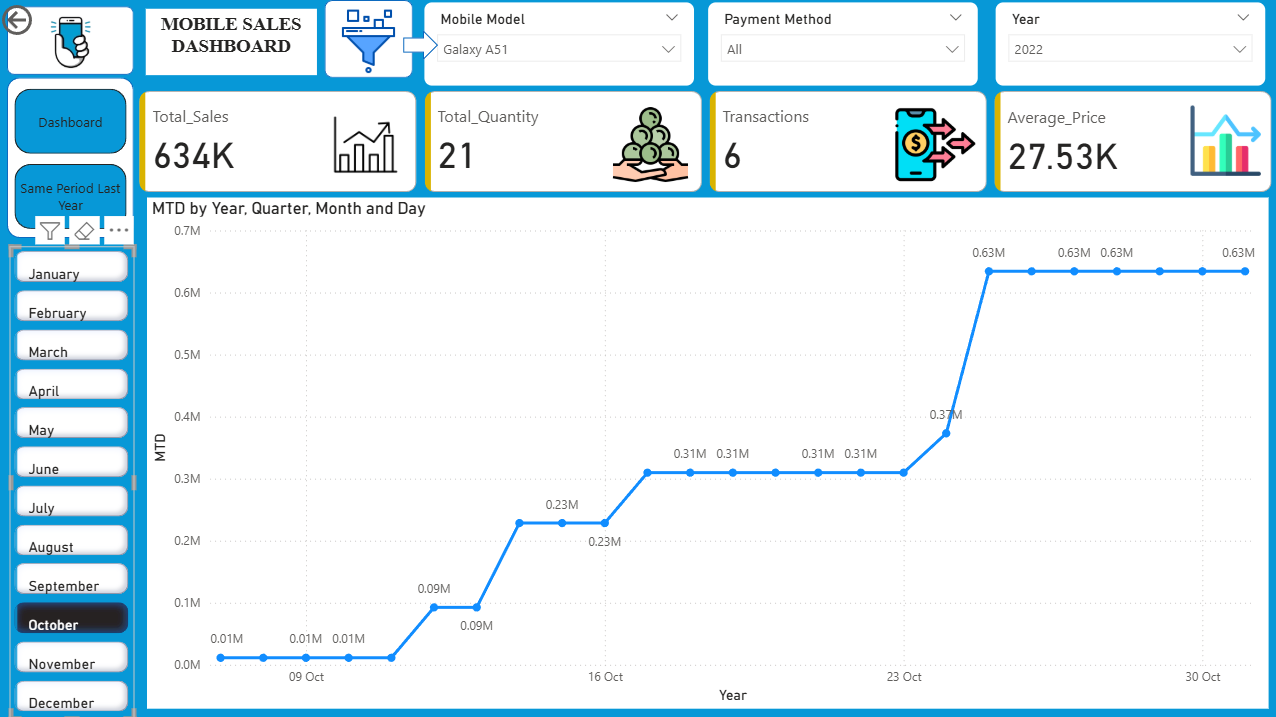

The dashboard page shown, as its layout file describes it:
{"tool":"powerbi","page":{"name":"MTD Report","canvas":[1280,720],"ordinal":1},"visuals":[{"type":"shape","box":[10.5,5.8,126.7,68.6],"z":0},{"type":"image","box":[31.4,3.5,84.9,74.4],"z":1000},{"type":"shape","box":[10.5,77.9,126.7,160.5],"z":2000},{"type":"cardVisual","fields":{"Data":["Mobiles_Sales_Data.Total_Sales","Mobiles_Sales_Data.Total_Quantity","Mobiles_Sales_Data.Transactions","Mobiles_Sales_Data.Average_Price"]},"box":[137.2,86,1143,111.6],"z":3000},{"type":"slicer","fields":{"Values":["Mobiles_Sales_Data.Mobile Model"]},"box":[425.6,0,274.4,88.4],"z":4000},{"type":"slicer","fields":{"Values":["Mobiles_Sales_Data.Payment Method"]},"box":[709.3,0,274.4,88.4],"z":5000},{"type":"slicer","fields":{"Values":["Custom_Calender.Date.Variation.Date Hierarchy.Year"]},"box":[996.5,0,274.4,88.4],"z":6000},{"type":"shape","box":[148.8,8.1,170.9,66.3],"z":7000},{"type":"shape","box":[327.9,0,88.4,77.9],"z":8000},{"type":"image","box":[327.9,3.5,88.4,75.6],"z":9000},{"type":"shape","box":[405.8,30.2,34.9,30.2],"z":10000},{"type":"textbox","box":[148.8,8.1,170.9,66.3],"z":11000},{"type":"lineChart","fields":{"Y":["Mobiles_Sales_Data.MTD"],"Category":["Custom_Calender.Date.Variation.Date Hierarchy.Year","Custom_Calender.Date.Variation.Date Hierarchy.Quarter","Custom_Calender.Date.Variation.Date Hierarchy.Month","Custom_Calender.Date.Variation.Date Hierarchy.Day"]},"box":[150,197.5,1121.2,511.2],"z":12000},{"type":"actionButton","box":[0,0,100,40],"z":13000},{"type":"advancedSlicerVisual","fields":{"Values":["Custom_Calender.Date.Variation.Date Hierarchy.Month"]},"box":[12.8,246.5,124.4,473.3],"z":13001},{"type":"pageNavigator","box":[17.5,88.8,112.5,141.2],"z":13002}]}

Visuals, with their boxes in screenshot pixels (x1, y1, x2, y2), scaled from the page's 1280x720 canvas onto the 1276x717 screenshot:
shape: BBox(10, 6, 137, 74)
image: BBox(31, 3, 116, 78)
shape: BBox(10, 78, 137, 237)
cardVisual - Mobiles_Sales_Data.Total_Sales x Mobiles_Sales_Data.Total_Quantity: BBox(137, 86, 1275, 197)
slicer - Mobiles_Sales_Data.Mobile Model: BBox(424, 0, 698, 88)
slicer - Mobiles_Sales_Data.Payment Method: BBox(707, 0, 981, 88)
slicer - Custom_Calender.Date.Variation.Date Hierarchy.Year: BBox(993, 0, 1267, 88)
shape: BBox(148, 8, 319, 74)
shape: BBox(327, 0, 415, 78)
image: BBox(327, 3, 415, 79)
shape: BBox(405, 30, 439, 60)
textbox: BBox(148, 8, 319, 74)
lineChart - Mobiles_Sales_Data.MTD x Custom_Calender.Date.Variation.Date Hierarchy.Year: BBox(150, 197, 1267, 706)
actionButton: BBox(0, 0, 100, 40)
advancedSlicerVisual - Custom_Calender.Date.Variation.Date Hierarchy.Month: BBox(13, 245, 137, 716)
pageNavigator: BBox(17, 88, 130, 229)
